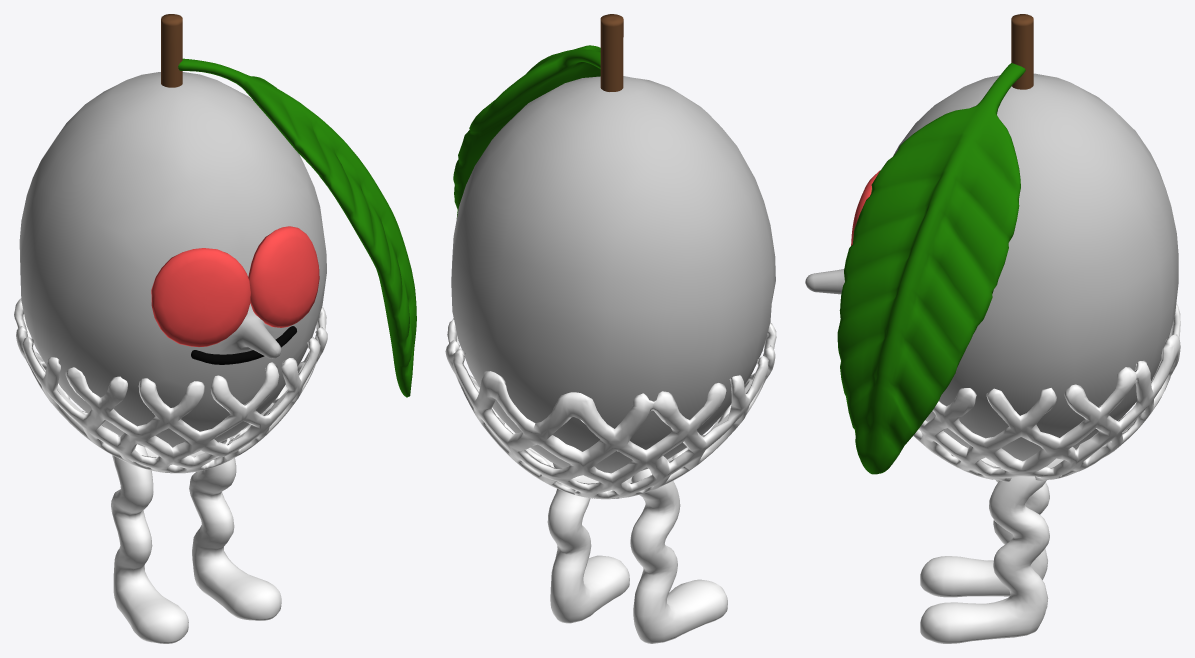
3 renders of one model, left to right at view 1: azimuth 30°, elevation 25°; view 2: azimuth 150°, elevation 25°; view 3: azimuth 270°, elevation 25°, orthographic. The views are drawn at different scales.
Visible parts, largest first — view 1: body, protector, eyelids, leaf, leg2, leg1, hair, mouth; view 2: body, protector, leg2, leg1, leaf, hair; view 3: body, leaf, protector, leg1, leg2, hair.
Boxes of the visible parts, x1,y1,x2,y2 form: body: [19, 72, 326, 447]; protector: [14, 298, 327, 473]; eyelids: [151, 226, 319, 347]; leaf: [178, 58, 416, 397]; leg2: [111, 435, 188, 643]; leg1: [189, 442, 281, 620]; hair: [161, 14, 182, 87]; mouth: [191, 326, 296, 364]; body: [451, 76, 775, 472]; protector: [445, 318, 776, 499]; leg2: [630, 468, 727, 643]; leg1: [547, 463, 629, 623]; leaf: [453, 45, 600, 218]; hair: [600, 14, 623, 91]; body: [805, 73, 1178, 460]; leaf: [837, 63, 1025, 474]; protector: [913, 303, 1180, 481]; leg1: [920, 461, 1049, 643]; leg2: [920, 480, 1049, 597]; hair: [1011, 14, 1033, 89].
Bounding box in the file's own units: 356 × 618 × 355.
